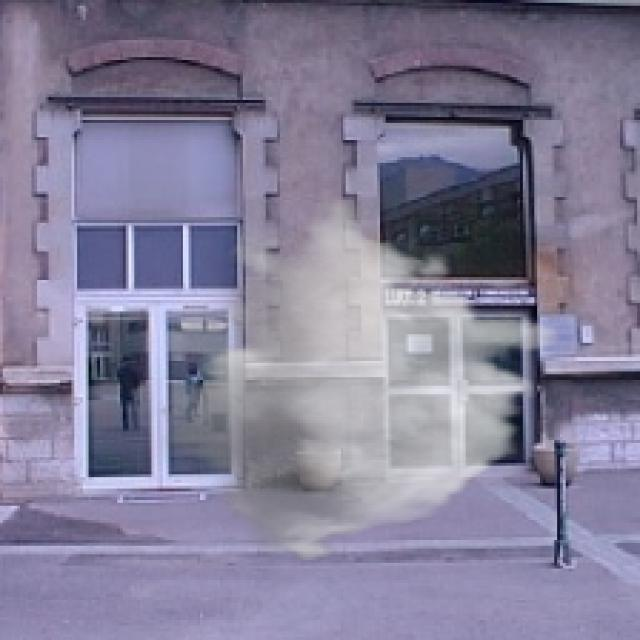smoke: (151, 197, 563, 566)
